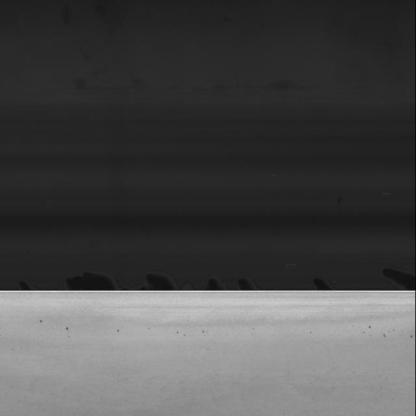inclusion: (369, 331, 399, 341), (350, 322, 378, 332), (56, 326, 75, 334), (107, 325, 121, 334), (32, 316, 45, 324)
